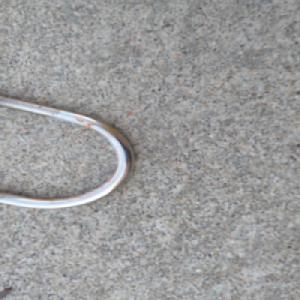ClampPart: (0, 93, 139, 209)
